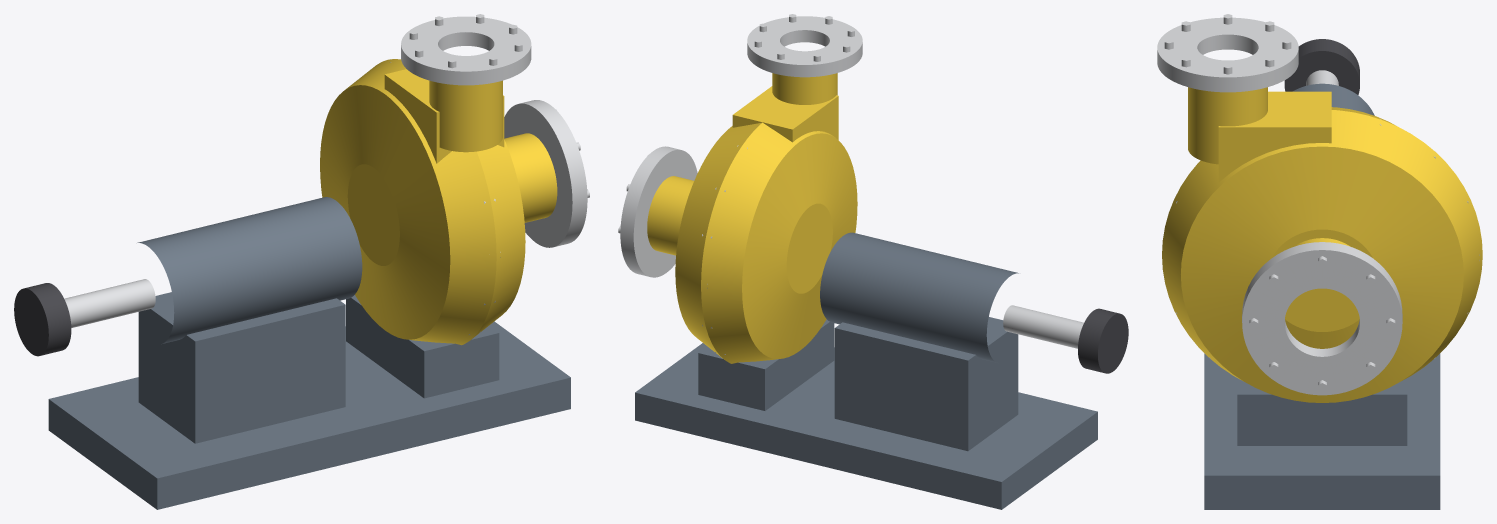
File: slurry-pump.glb
The picture shows the model from 3 angles, left to right: view 1: azimuth 30°, elevation 25°; view 2: azimuth 150°, elevation 25°; view 3: azimuth 270°, elevation 25°; orthographic projection. The views are drawn at different scales.
Parts seen in each view (by area): view 1: slurry-pump; view 2: slurry-pump; view 3: slurry-pump.
Boxes of the visible parts, x1,y1,x2,y2 form: slurry-pump: (14, 14, 589, 509); slurry-pump: (618, 14, 1128, 509); slurry-pump: (1157, 14, 1482, 509).
Bounding box in the file's own units: 1.39 × 0.98 × 0.69.
